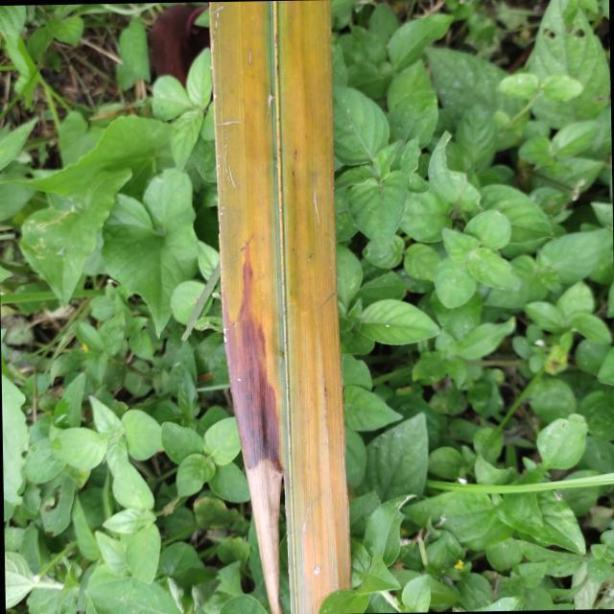Megnesium: (211, 1, 350, 614)
